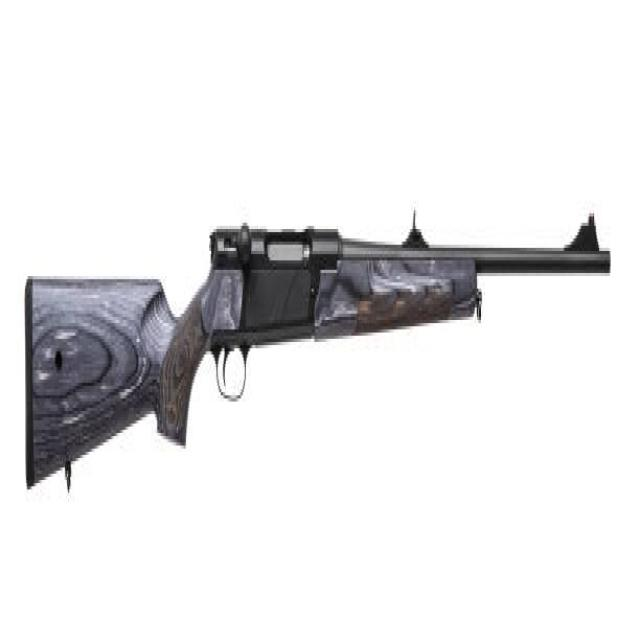rifle: (20, 178, 614, 517)
